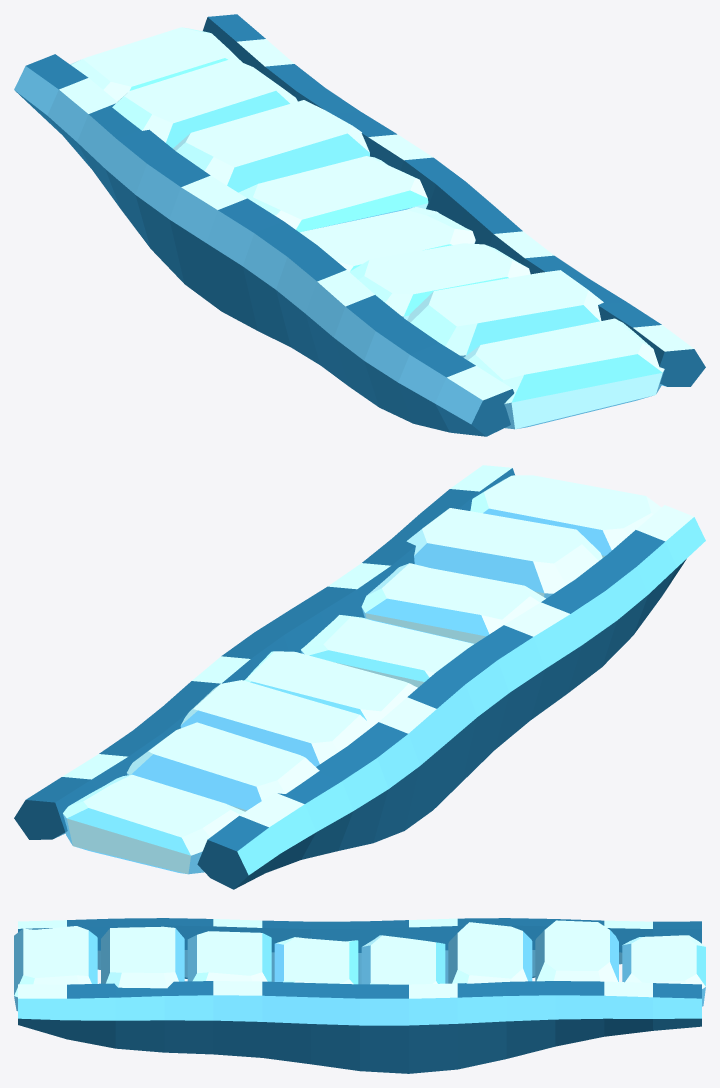
The model's file is rime_bridge.glb.
3 renders of one model, top to bottom at view 1: azimuth 30°, elevation 25°; view 2: azimuth 150°, elevation 25°; view 3: azimuth 270°, elevation 25°, orthographic. The views are drawn at different scales.
Visible parts, largest first — view 1: Rime_Bridge_Glacier_Buttress_L, Rime_Bridge_Glacier_Buttress_R, Rime_Bridge_Ice_Flagstone_01, Rime_Bridge_Ice_Flagstone_06, Rime_Bridge_Ice_Flagstone_02, Rime_Bridge_Ice_Flagstone_05, Rime_Bridge_Ice_Flagstone_07, Rime_Bridge_Ice_Flagstone_03, Rime_Bridge_Ice_Flagstone_08, Rime_Bridge_Ice_Flagstone_04; view 2: Rime_Bridge_Glacier_Buttress_L, Rime_Bridge_Glacier_Buttress_R, Rime_Bridge_Ice_Flagstone_08, Rime_Bridge_Ice_Flagstone_02, Rime_Bridge_Ice_Flagstone_07, Rime_Bridge_Ice_Flagstone_03, Rime_Bridge_Ice_Flagstone_06, Rime_Bridge_Ice_Flagstone_01, Rime_Bridge_Ice_Flagstone_04, Rime_Bridge_Ice_Flagstone_05; view 3: Rime_Bridge_Glacier_Buttress_R, Rime_Bridge_Glacier_Buttress_L, Rime_Bridge_Ice_Flagstone_02, Rime_Bridge_Ice_Flagstone_01, Rime_Bridge_Ice_Flagstone_07, Rime_Bridge_Ice_Flagstone_06, Rime_Bridge_Ice_Flagstone_03, Rime_Bridge_Ice_Flagstone_08, Rime_Bridge_Ice_Flagstone_05, Rime_Bridge_Ice_Flagstone_04.
Boxes of the visible parts, <box> form: Rime_Bridge_Glacier_Buttress_L: <box>14,54,514,436</box>; Rime_Bridge_Glacier_Buttress_R: <box>203,14,705,386</box>; Rime_Bridge_Ice_Flagstone_01: <box>463,318,664,429</box>; Rime_Bridge_Ice_Flagstone_06: <box>173,100,369,192</box>; Rime_Bridge_Ice_Flagstone_02: <box>407,270,603,357</box>; Rime_Bridge_Ice_Flagstone_05: <box>238,156,428,232</box>; Rime_Bridge_Ice_Flagstone_07: <box>112,58,297,148</box>; Rime_Bridge_Ice_Flagstone_03: <box>349,243,530,320</box>; Rime_Bridge_Ice_Flagstone_08: <box>70,27,242,101</box>; Rime_Bridge_Ice_Flagstone_04: <box>300,207,475,271</box>; Rime_Bridge_Glacier_Buttress_L: <box>197,505,705,889</box>; Rime_Bridge_Glacier_Buttress_R: <box>14,465,514,839</box>; Rime_Bridge_Ice_Flagstone_08: <box>63,774,244,874</box>; Rime_Bridge_Ice_Flagstone_02: <box>406,508,602,598</box>; Rime_Bridge_Ice_Flagstone_07: <box>127,722,319,811</box>; Rime_Bridge_Ice_Flagstone_03: <box>361,563,545,643</box>; Rime_Bridge_Ice_Flagstone_06: <box>180,680,372,766</box>; Rime_Bridge_Ice_Flagstone_01: <box>470,475,661,557</box>; Rime_Bridge_Ice_Flagstone_04: <box>301,615,474,687</box>; Rime_Bridge_Ice_Flagstone_05: <box>244,651,417,725</box>; Rime_Bridge_Glacier_Buttress_R: <box>18,981,701,1073</box>; Rime_Bridge_Glacier_Buttress_L: <box>18,918,701,984</box>; Rime_Bridge_Ice_Flagstone_02: <box>101,926,184,988</box>; Rime_Bridge_Ice_Flagstone_01: <box>14,926,97,1011</box>; Rime_Bridge_Ice_Flagstone_07: <box>535,920,618,981</box>; Rime_Bridge_Ice_Flagstone_06: <box>448,922,532,983</box>; Rime_Bridge_Ice_Flagstone_03: <box>187,931,271,981</box>; Rime_Bridge_Ice_Flagstone_08: <box>622,935,705,1006</box>; Rime_Bridge_Ice_Flagstone_05: <box>361,935,445,984</box>; Rime_Bridge_Ice_Flagstone_04: <box>274,937,358,984</box>.
Size of the model in its own units: 3.38 by 1.6 by 11.07.
